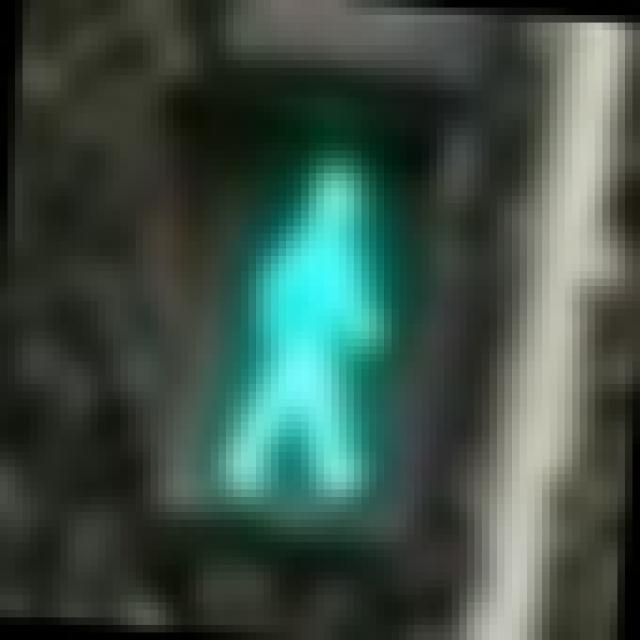green_light: (150, 82, 474, 534)
